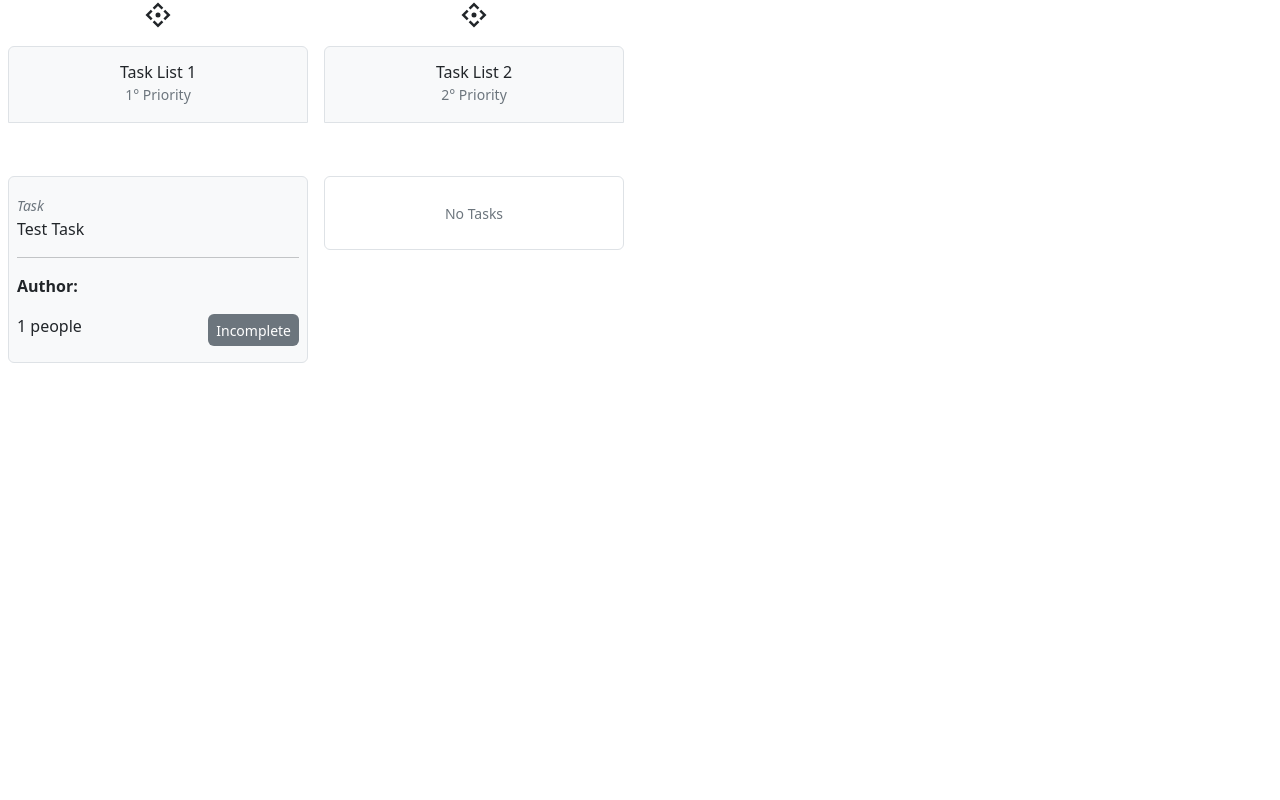
Modal should be able to patch task data
The image size is (1280, 800).
Click the element with test id "task-card-container-1": point(158, 270) [8, 176, 308, 363]
(page scrolled)
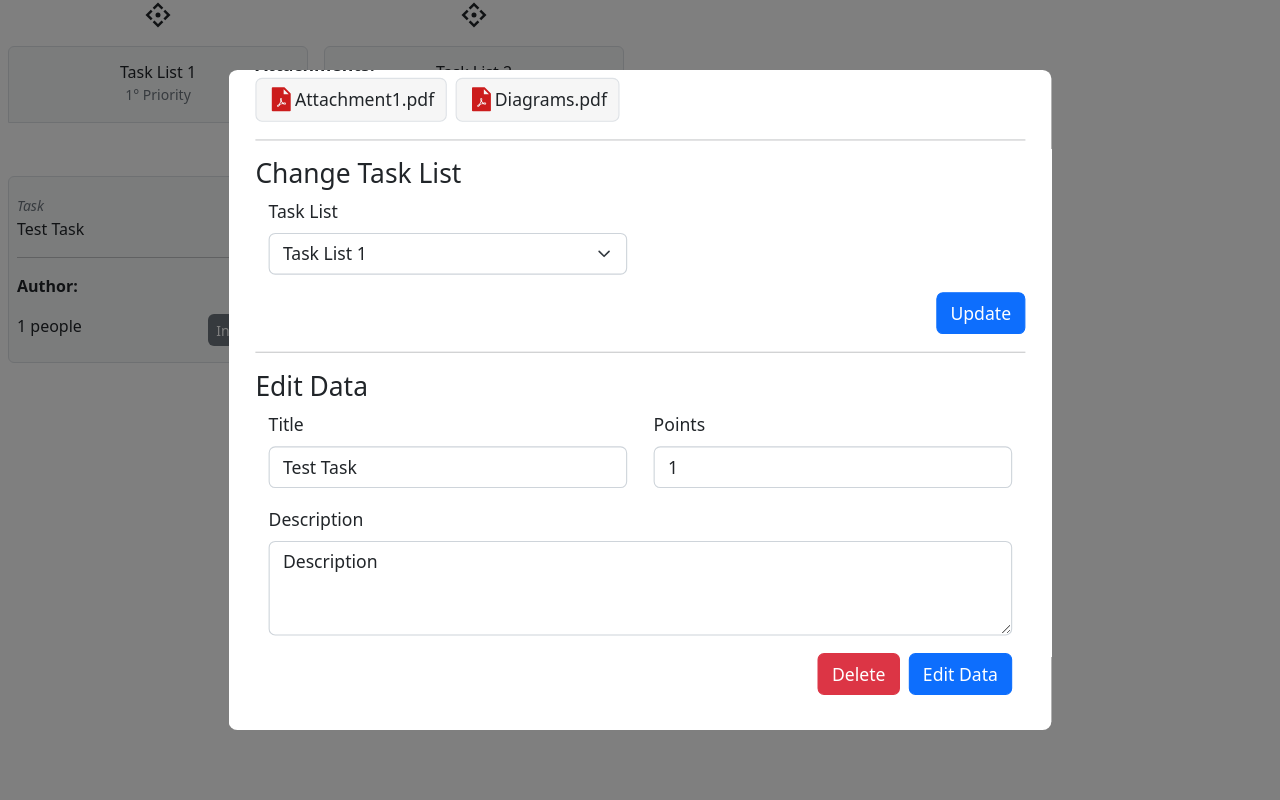
Result: the element with test id "task-modal-cont" is shown at [255, 70, 1025, 695]
Replace the text in the field with test id "task-modal-title-input" with "Test Task Patched": point(448, 467) [268, 446, 627, 488]
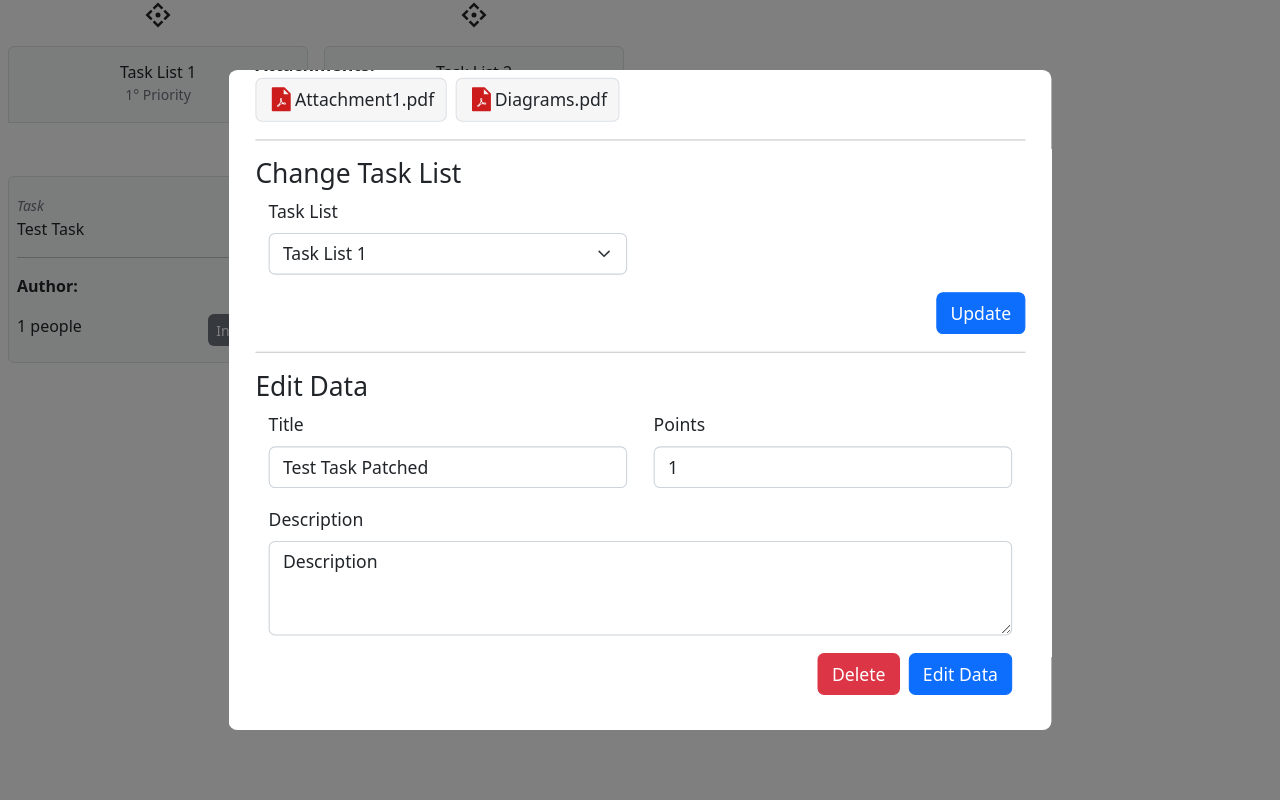
Replace the text in the number field with test id "task-modal-points-input" with "20": point(832, 467) [653, 446, 1012, 488]
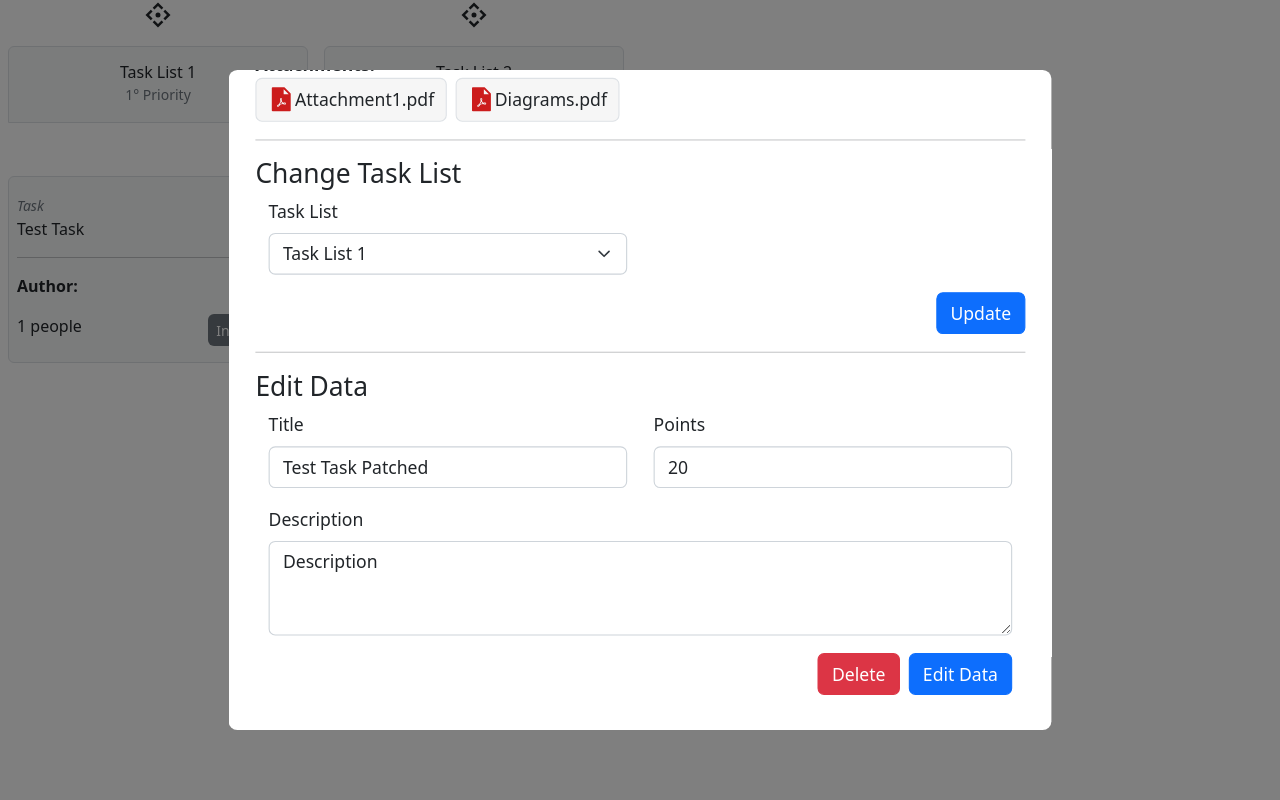
Replace the text in the text box with test id "task-modal-description-input" with "Description Patched": point(640, 588) [268, 541, 1012, 636]
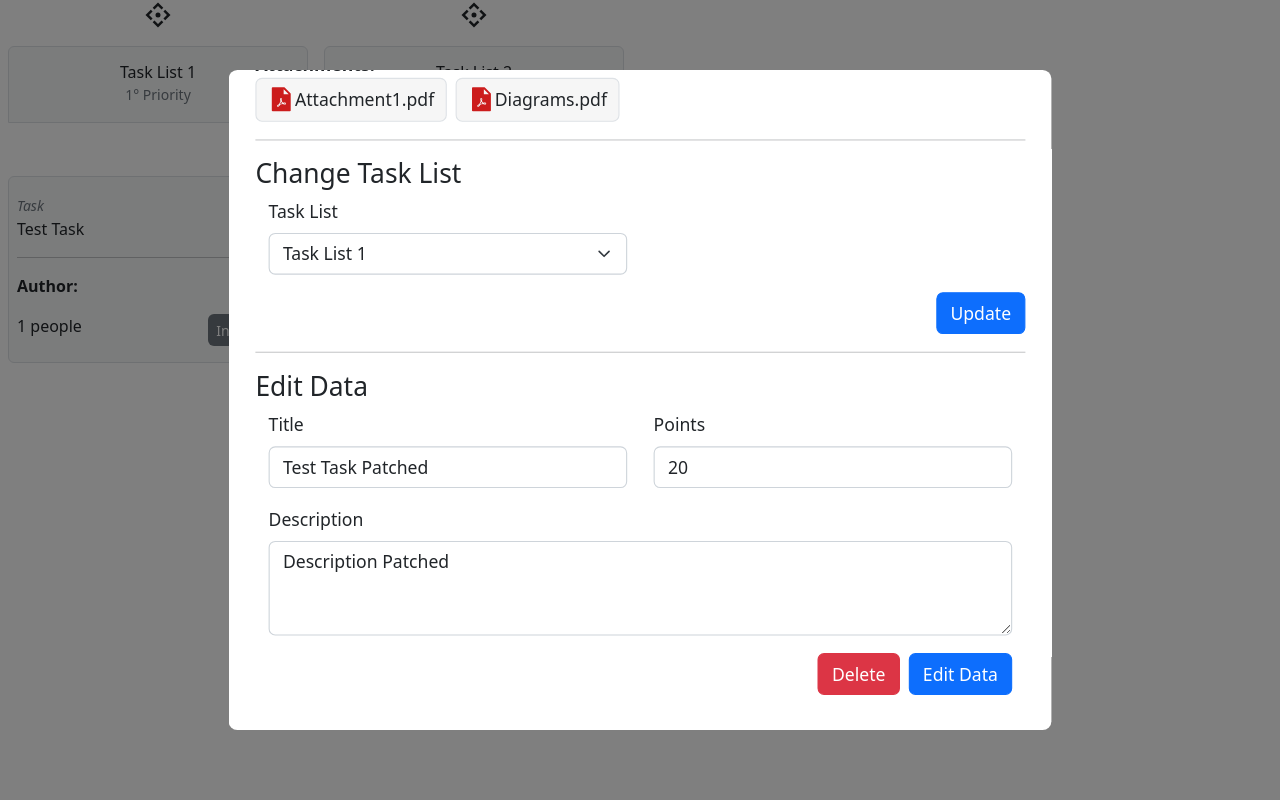
Click the button with test id "task-modal-update-btn": point(960, 674) [908, 653, 1012, 695]
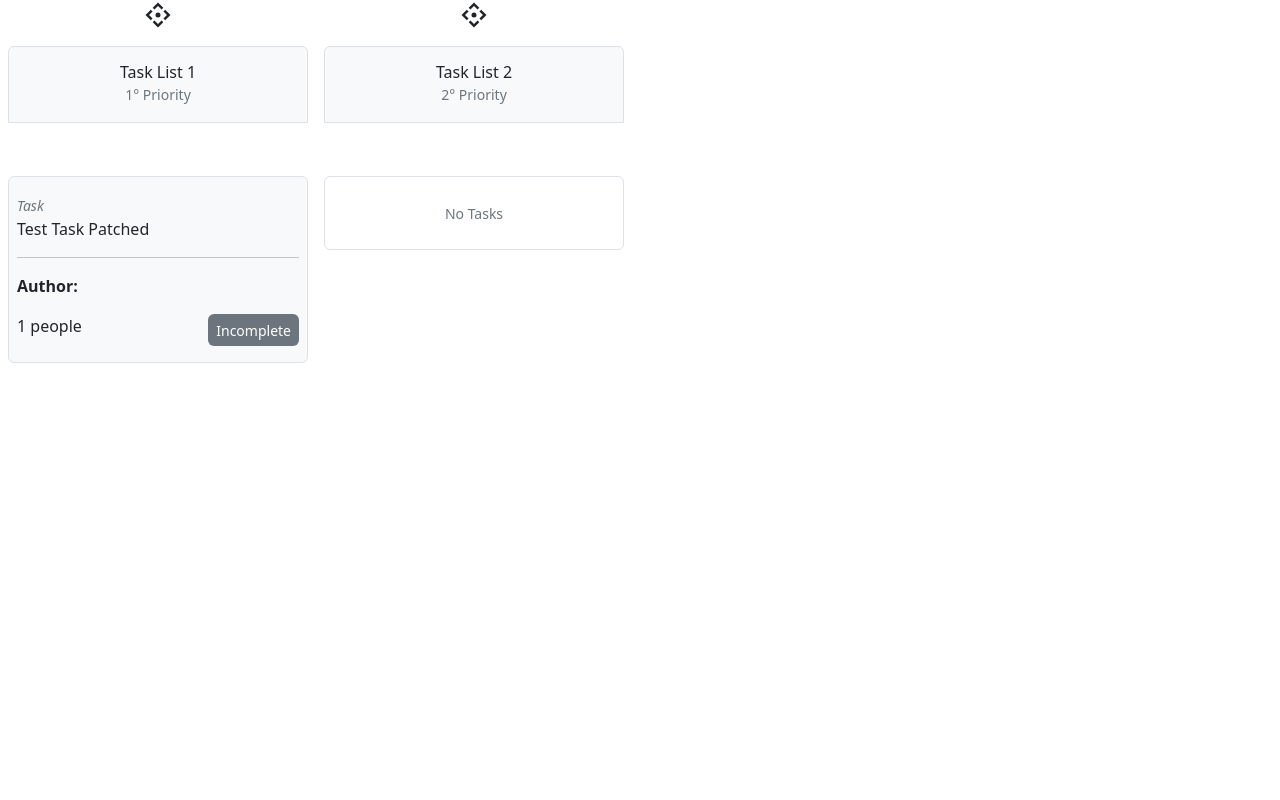
Click the element with test id "task-card-container-1": point(158, 270) [8, 176, 308, 363]
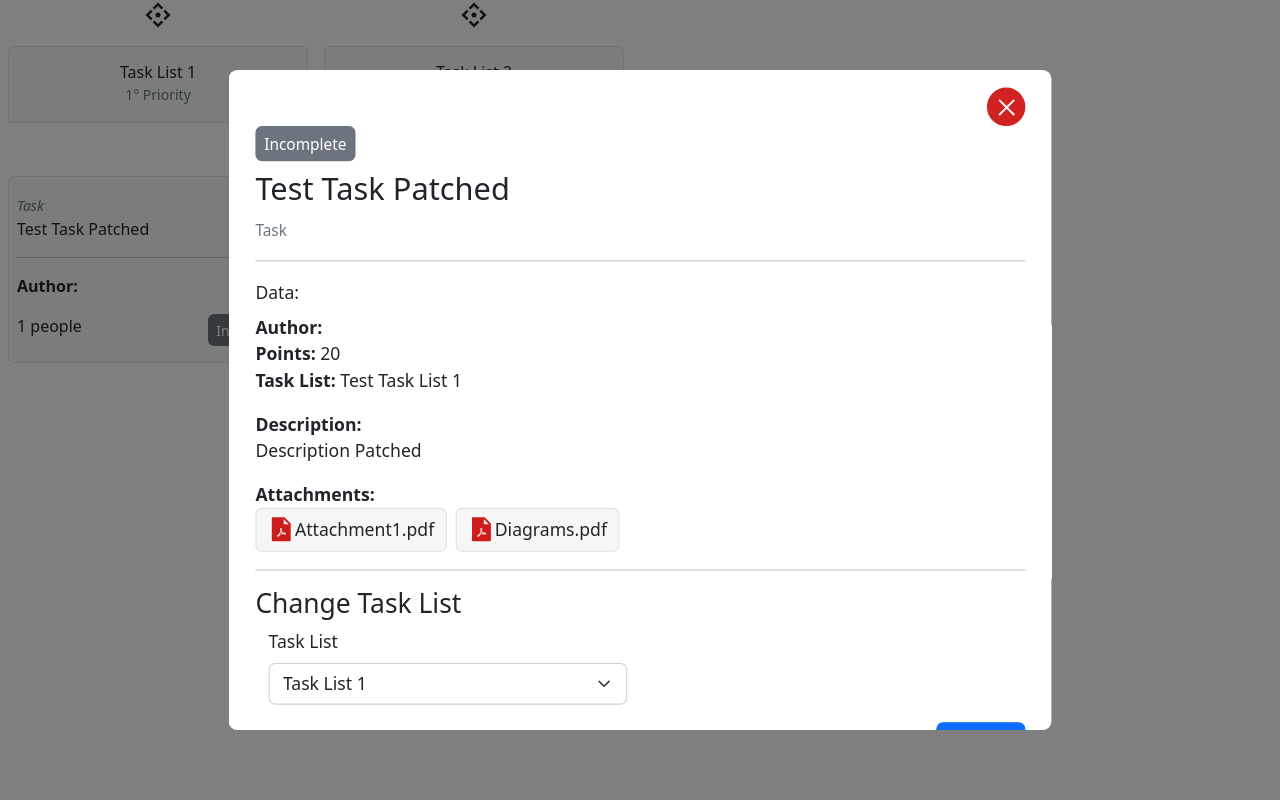
Result: the element with test id "task-modal-cont" is shown at [255, 126, 1025, 730]
Result: the heading with test id "task-modal-title" reads "Test Task Patched" at [255, 167, 510, 209]
Result: the text with test id "task-modal-description" reads "Description Patched" at [255, 438, 421, 462]
